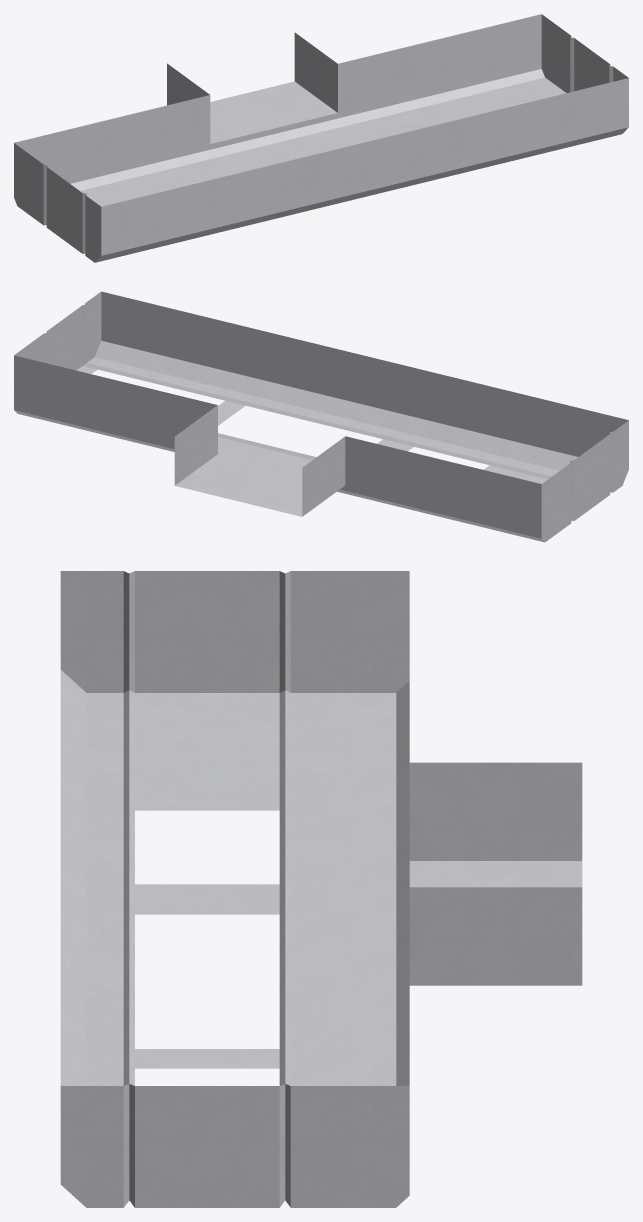
The model's file is SM_Steckdosenbox_03.obj.
3 views of the same model, one above another, from view 1: azimuth 30°, elevation 25°; view 2: azimuth 150°, elevation 25°; view 3: azimuth 270°, elevation 25° (orthographic). The views are drawn at different scales.
Parts seen in each view (by area): view 1: SM_Steckdosenbox_03; view 2: SM_Steckdosenbox_03; view 3: SM_Steckdosenbox_03.
Boxes of the visible parts, x1=… form: SM_Steckdosenbox_03: x1=14, y1=14, x2=628, y2=262; SM_Steckdosenbox_03: x1=14, y1=291, x2=628, y2=542; SM_Steckdosenbox_03: x1=60, y1=571, x2=582, y2=1207.
Size of the model in its own units: 0.571 by 0.063 by 0.2444.
Materials: 1 (1 with a texture image).
